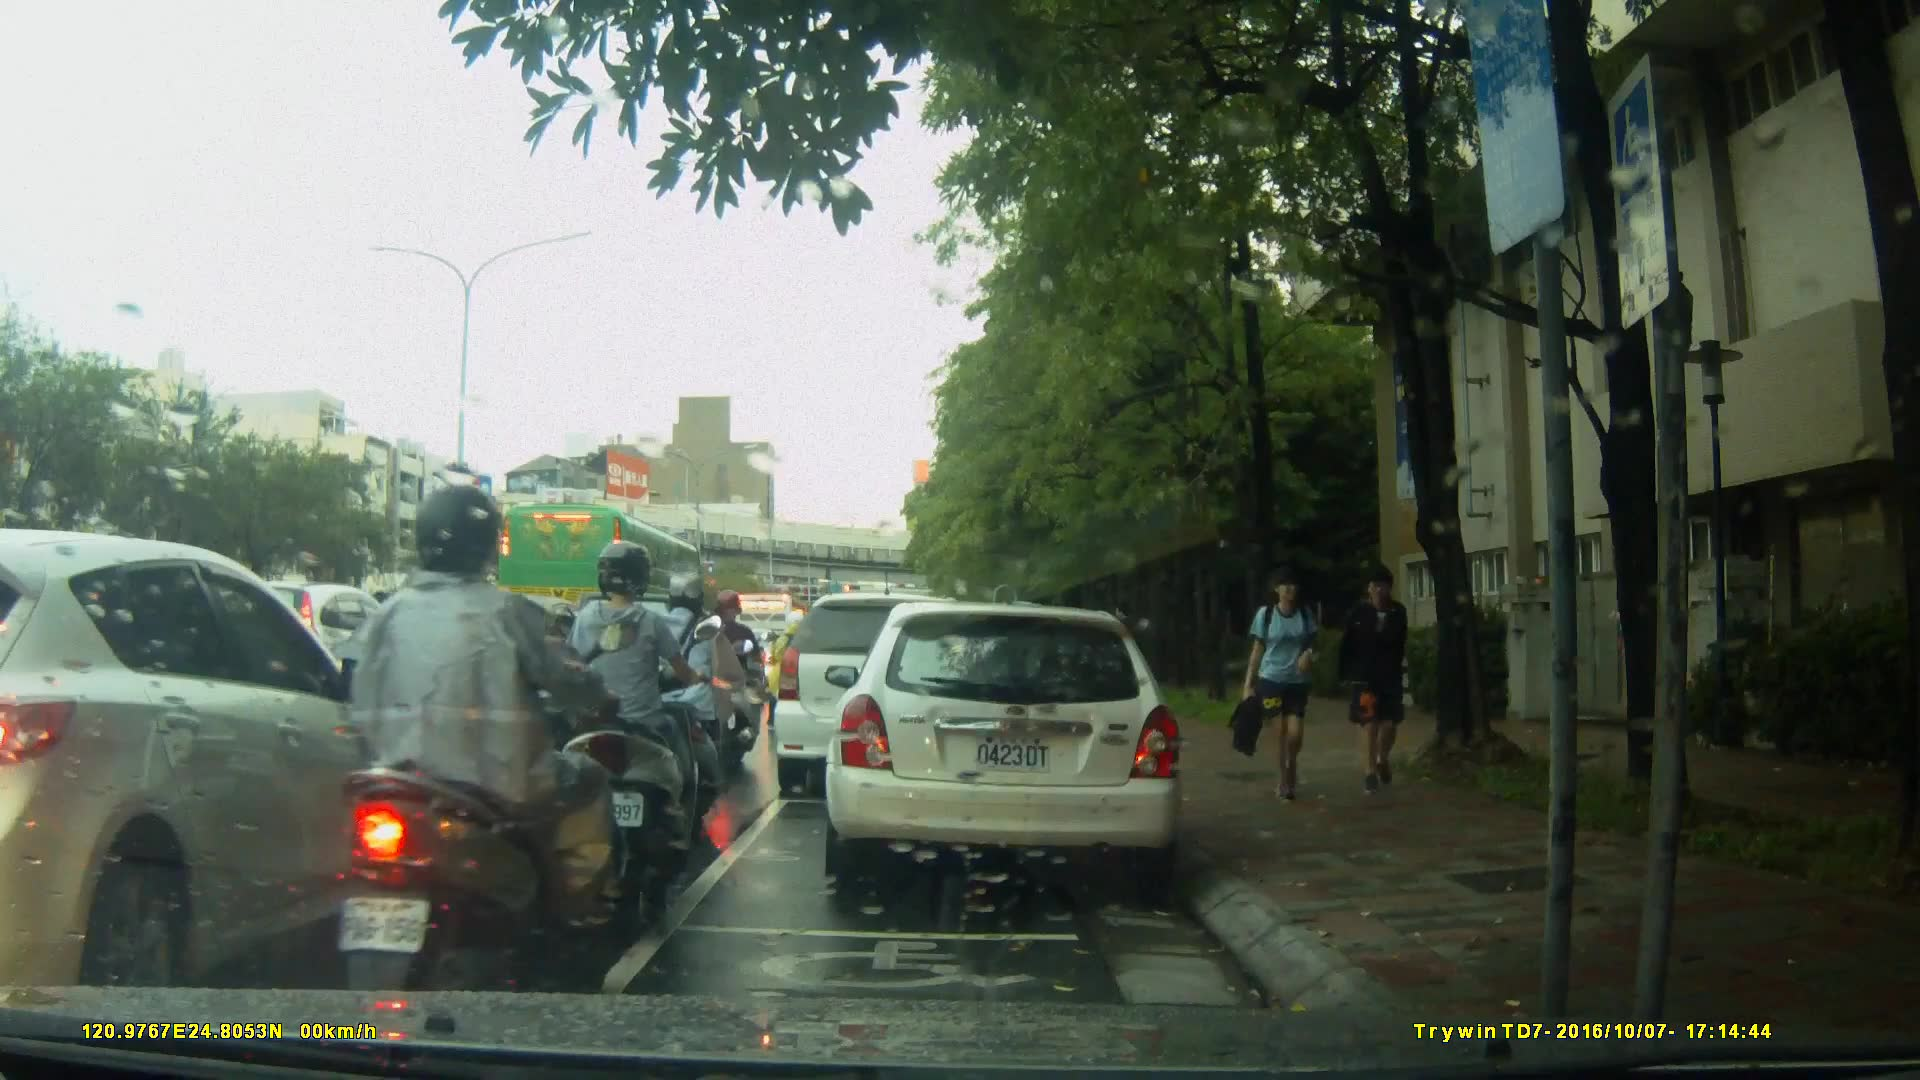pedestrian: (1220, 564, 1331, 807), (1334, 567, 1416, 798), (1114, 596, 1138, 680)
rider: (329, 476, 615, 1048), (554, 540, 706, 927), (644, 568, 733, 813), (692, 589, 762, 769)
vehicle: (1, 528, 449, 988), (831, 592, 1196, 897), (315, 590, 628, 799), (770, 591, 999, 803), (495, 500, 707, 636)
